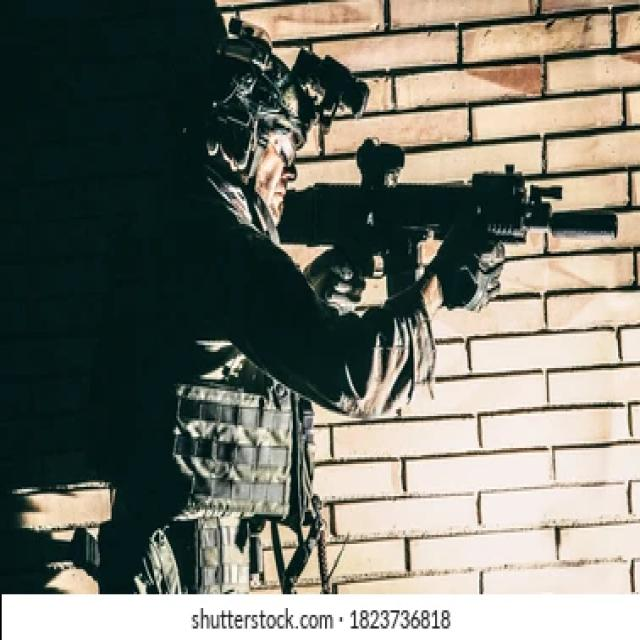soldier: (97, 36, 622, 600)
